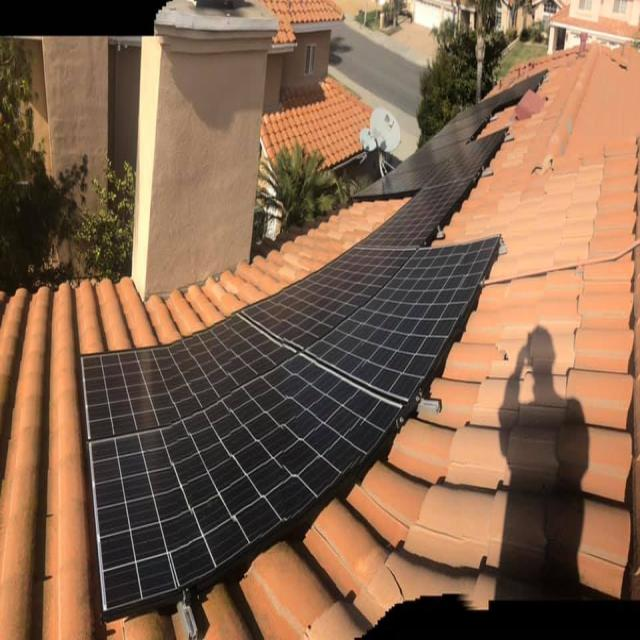clean-solar-panel: (81, 239, 496, 616)
